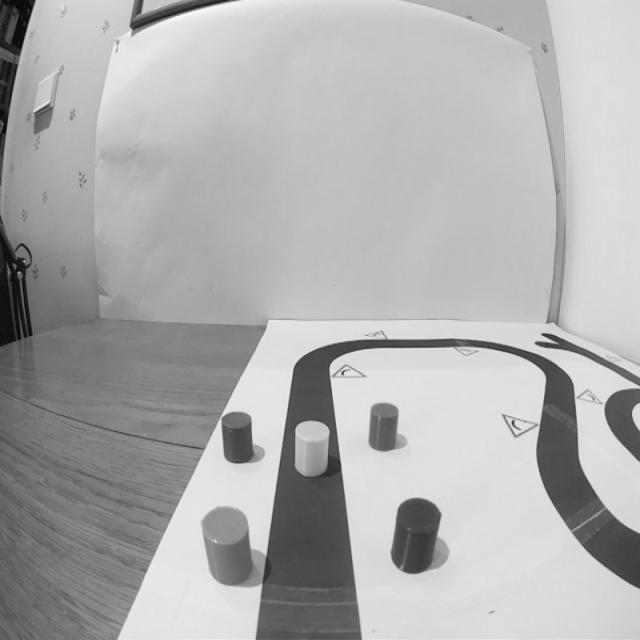cylinder: (198, 503, 255, 589), (390, 493, 440, 575), (291, 414, 333, 481), (219, 409, 256, 467), (365, 399, 401, 453)
lineStraight: (253, 477, 366, 640)
